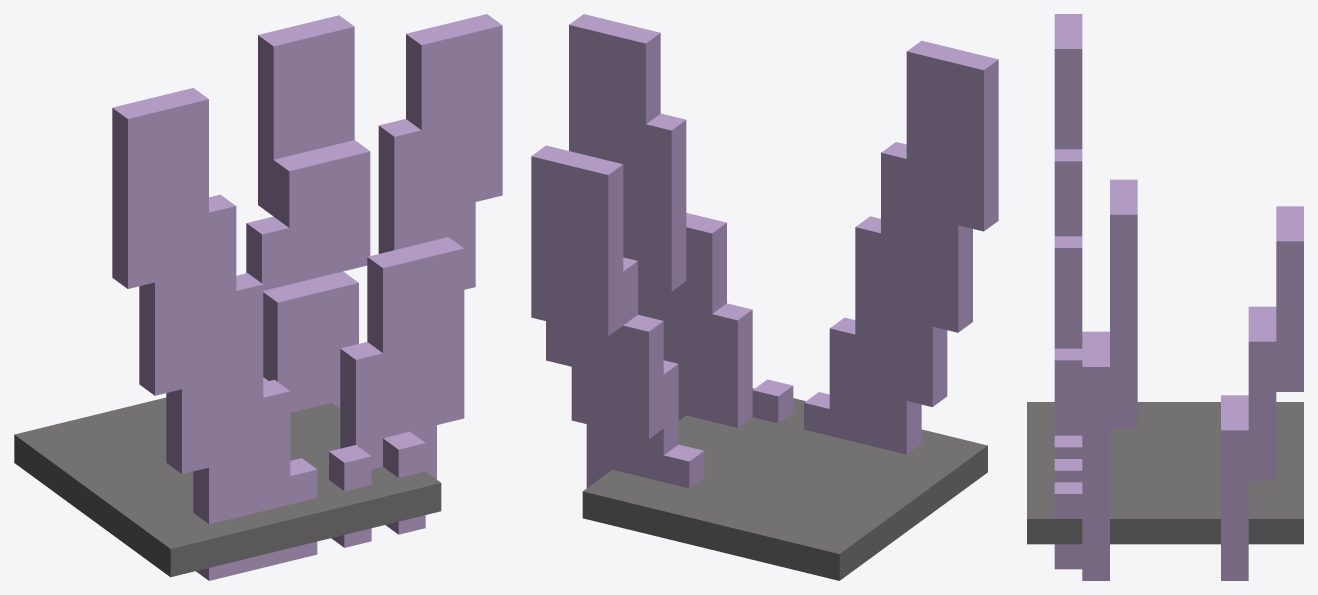
Rendered from mat_enchanted_crystal.glb.
3 views of the same model, side by side, from view 1: azimuth 30°, elevation 25°; view 2: azimuth 150°, elevation 25°; view 3: azimuth 270°, elevation 25° (orthographic). The views are drawn at different scales.
Visible parts, largest first — view 1: mat_enchanted_crystal; view 2: mat_enchanted_crystal; view 3: mat_enchanted_crystal.
Boxes of the visible parts, x1,y1,x2,y2 form: mat_enchanted_crystal: (14,14,502,580); mat_enchanted_crystal: (531,14,998,580); mat_enchanted_crystal: (1027,14,1303,580).
Size of the model in its own units: 0.18 by 0.204 by 0.12.
